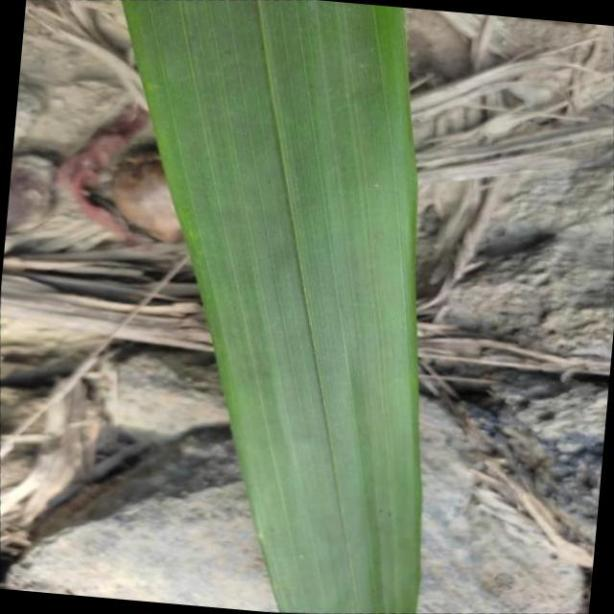Healthy: (125, 0, 427, 614)
